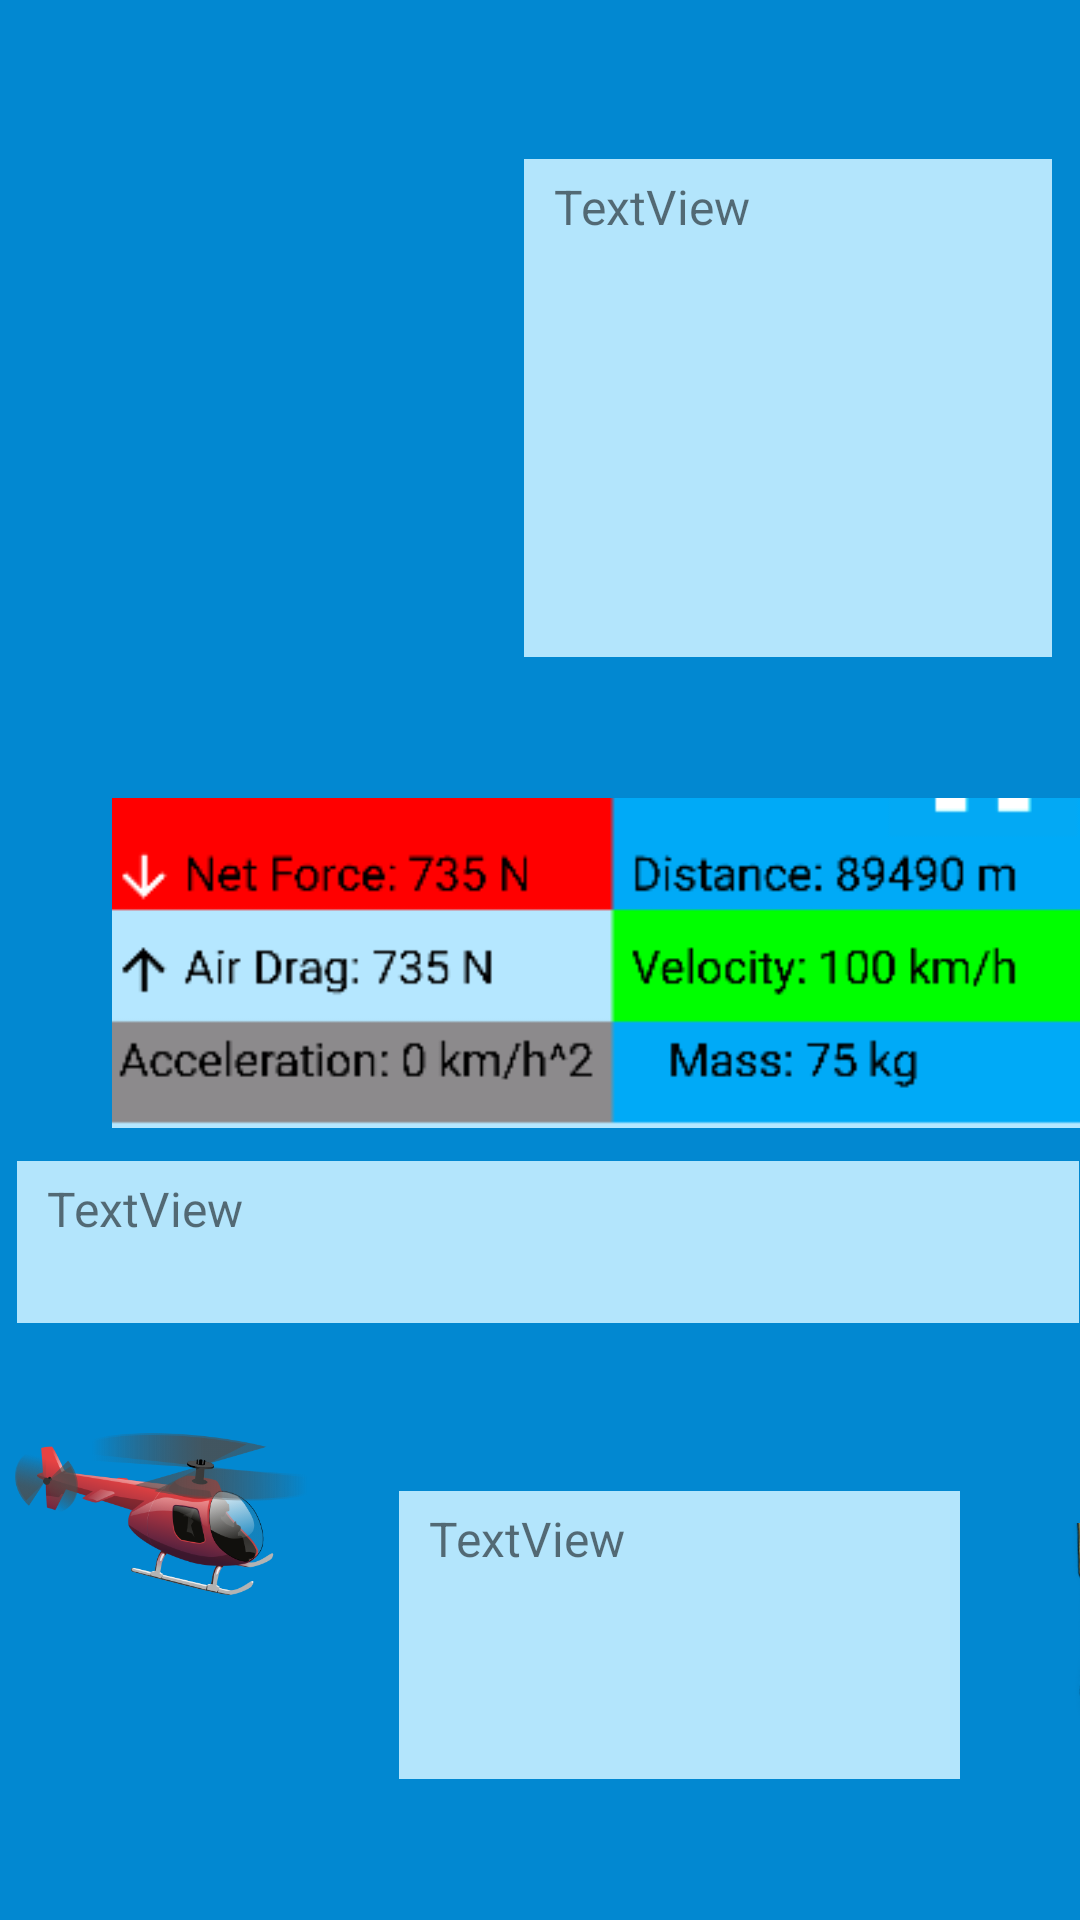

Point at icon controls on the screen. Image size 1080 x 1920, points as (x=x, y=y).
helicopter: (x=151, y=1514)
